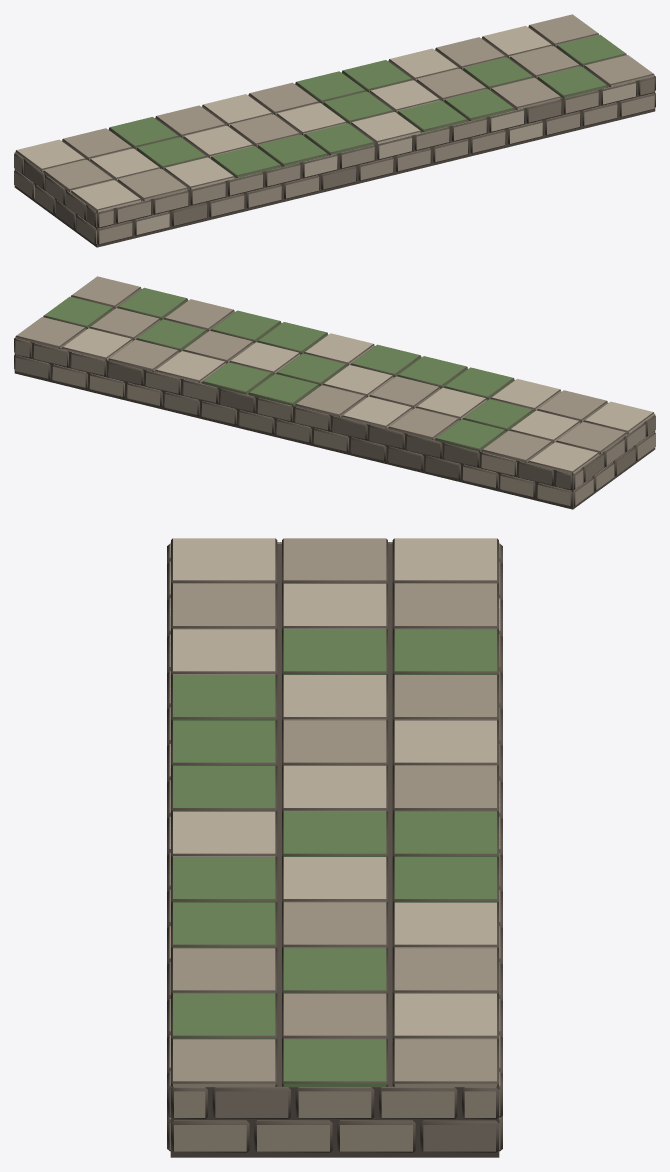
The model's file is tide_floor.glb.
3 views of the same model, one above another, from view 1: azimuth 30°, elevation 25°; view 2: azimuth 150°, elevation 25°; view 3: azimuth 270°, elevation 25° (orthographic). The views are drawn at different scales.
Visible parts, largest first — view 1: tide_floor; view 2: tide_floor; view 3: tide_floor.
Part boxes in pixels (x1,y1,x2,y2): tide_floor: (14, 14, 655, 247); tide_floor: (14, 276, 655, 509); tide_floor: (167, 538, 502, 1157).
Size of the model in its own units: 14.04 by 0.9 by 3.64.
